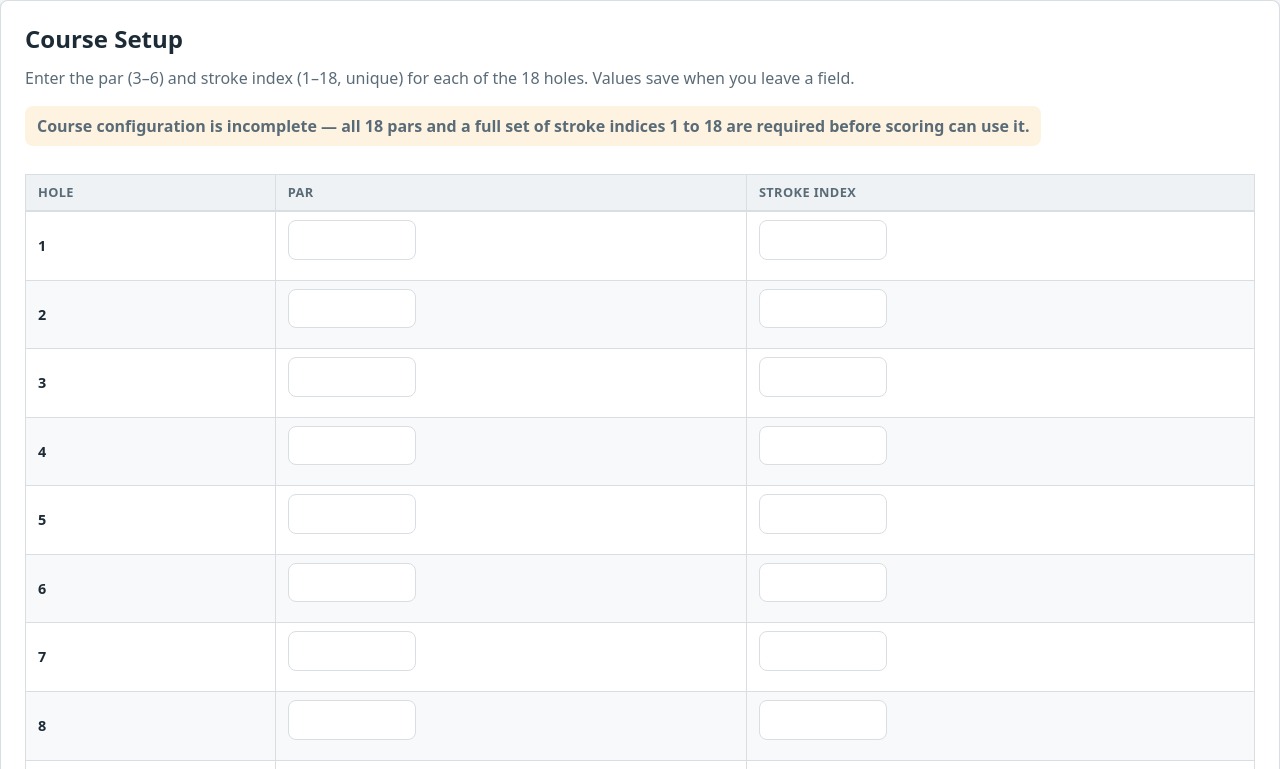
Test: CourseSetupScreen › rejects an out-of-range par, retains the prior value, and shows the permitted range (1.5)
Type "9" into the number field named "Par for hole 2" at [352, 308], box [288,289,416,328]
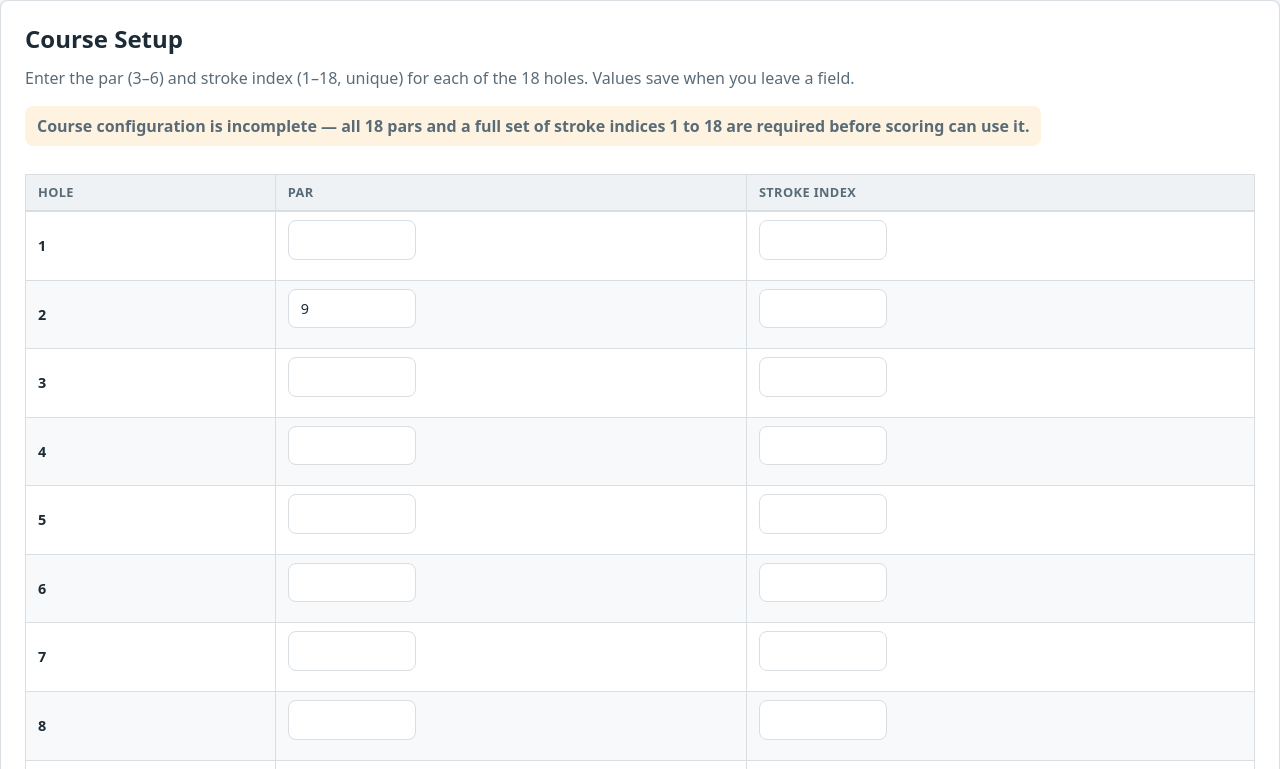
Leave the number field named "Par for hole 2", box [288,289,416,328]
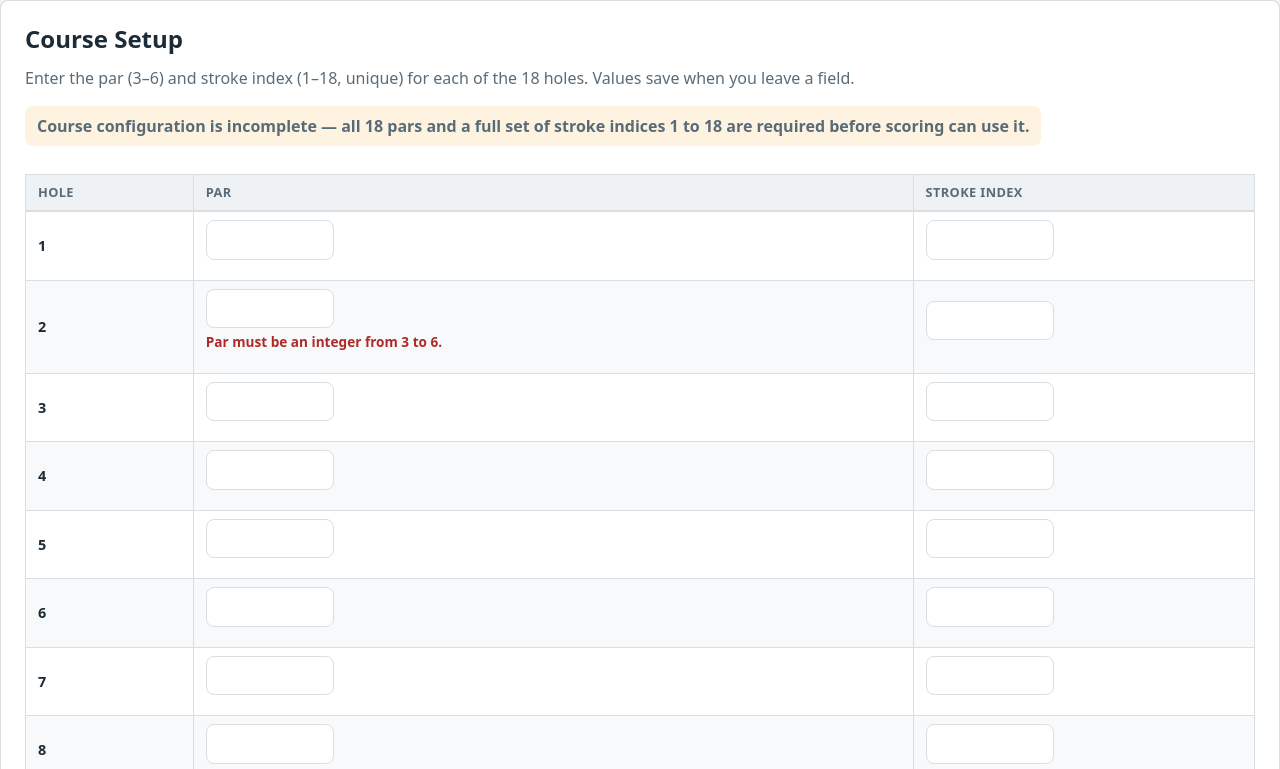
Now the text "Par must be an integer from 3 to 6." is shown, box [206,332,442,351]
Now the number field named "Par for hole 2" is empty, box [206,289,334,328]
